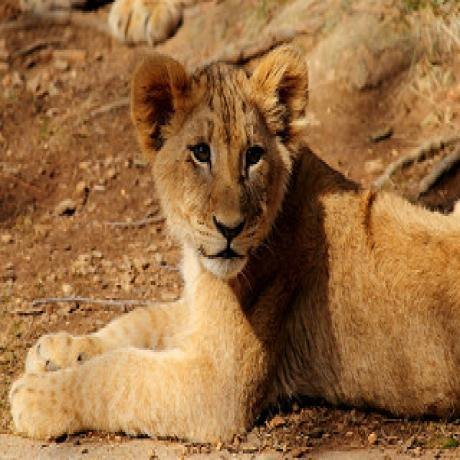Lion: (12, 40, 460, 460)
